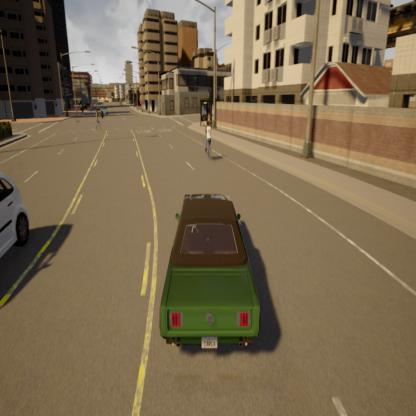Cars: (148, 184, 270, 358), (0, 167, 38, 277)
Pedestrian: (93, 108, 104, 134)
